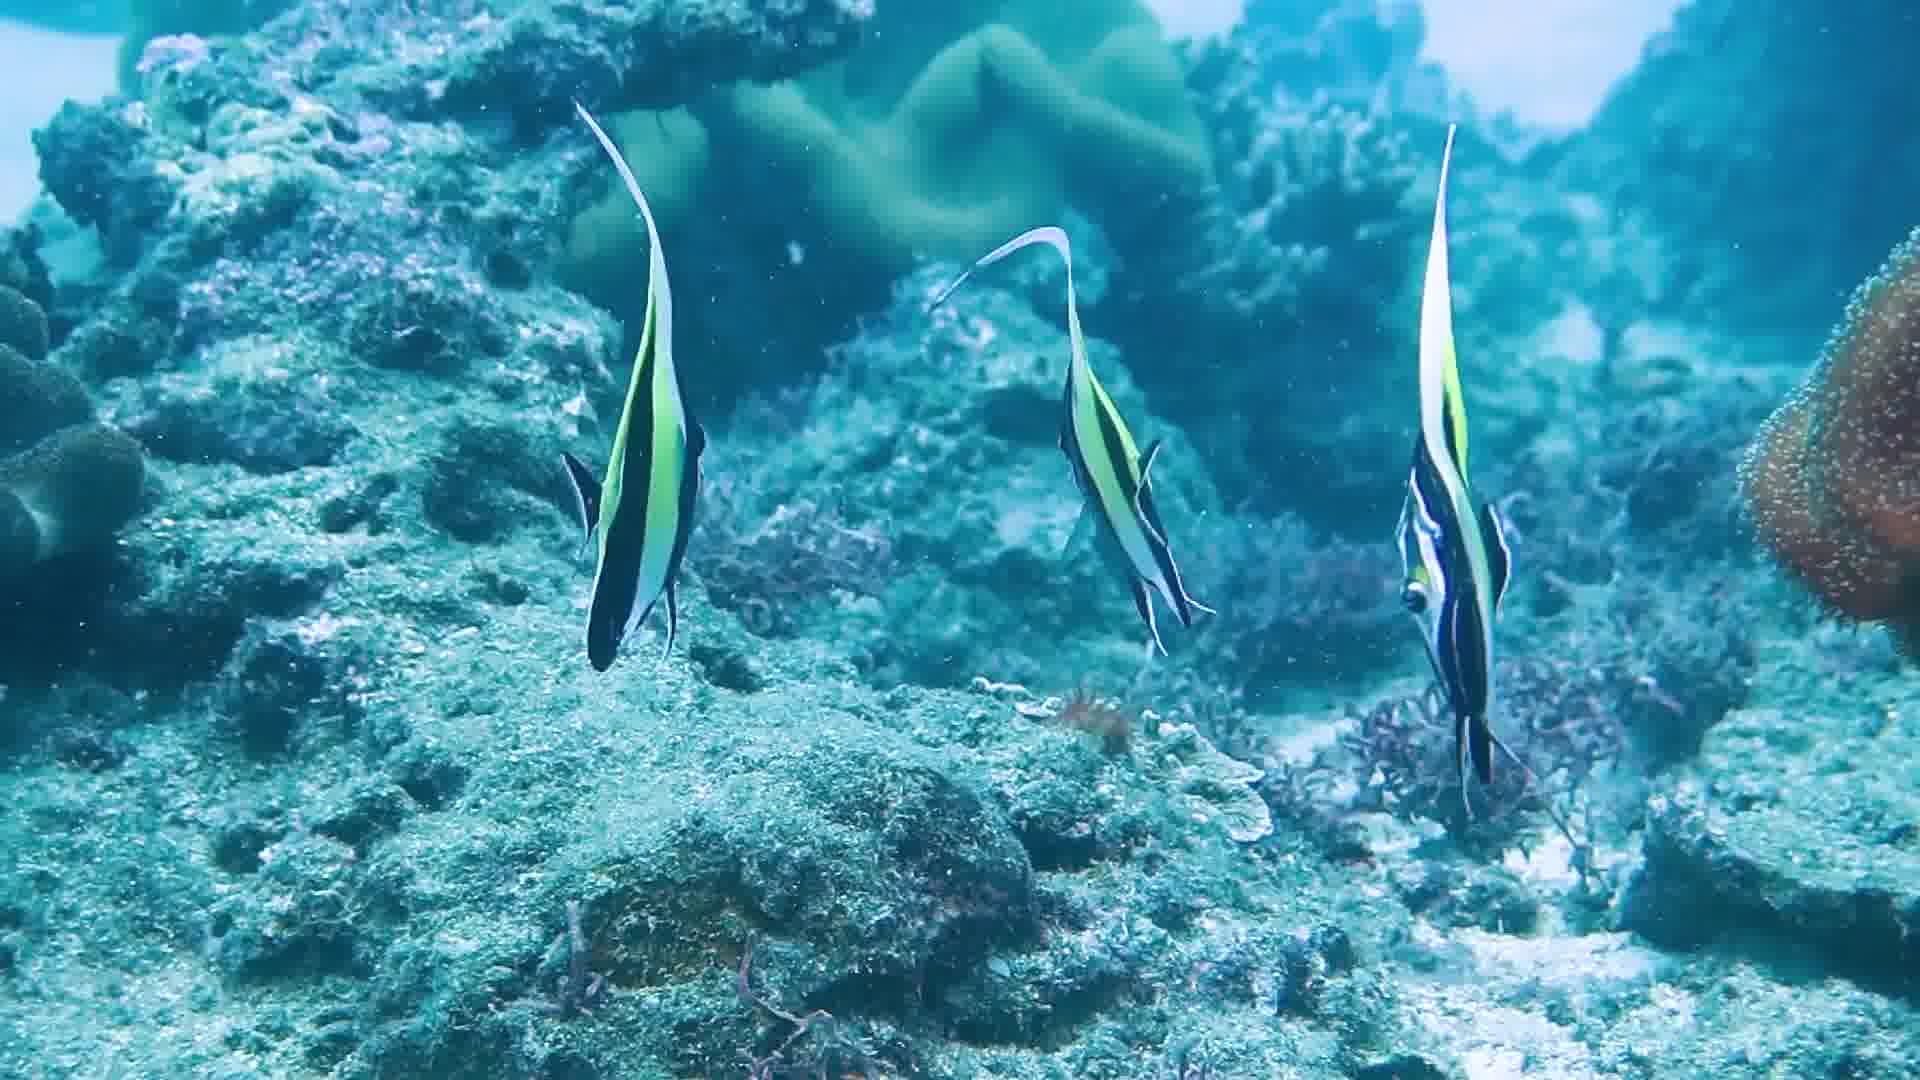Zanclus cornutus: (1349, 307, 1575, 819), (1006, 276, 1237, 665), (575, 277, 738, 686)
